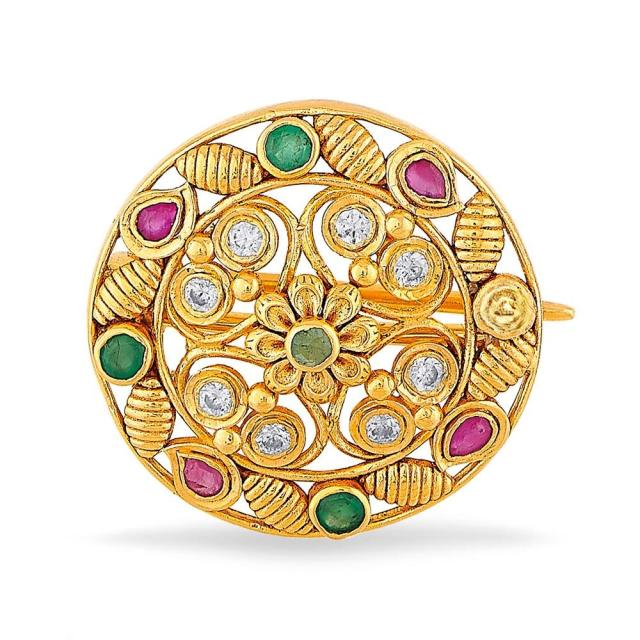missing gem: (479, 283, 529, 333)
